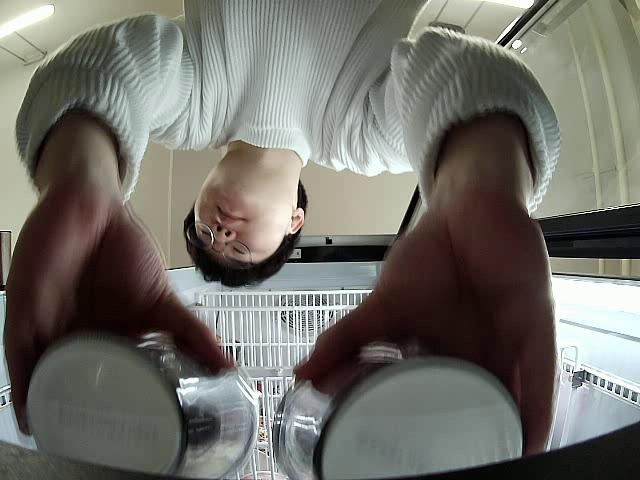00_hand: (294, 191, 559, 460), (0, 196, 233, 440)
08_buldak_S: (26, 323, 262, 480), (273, 352, 524, 480)
